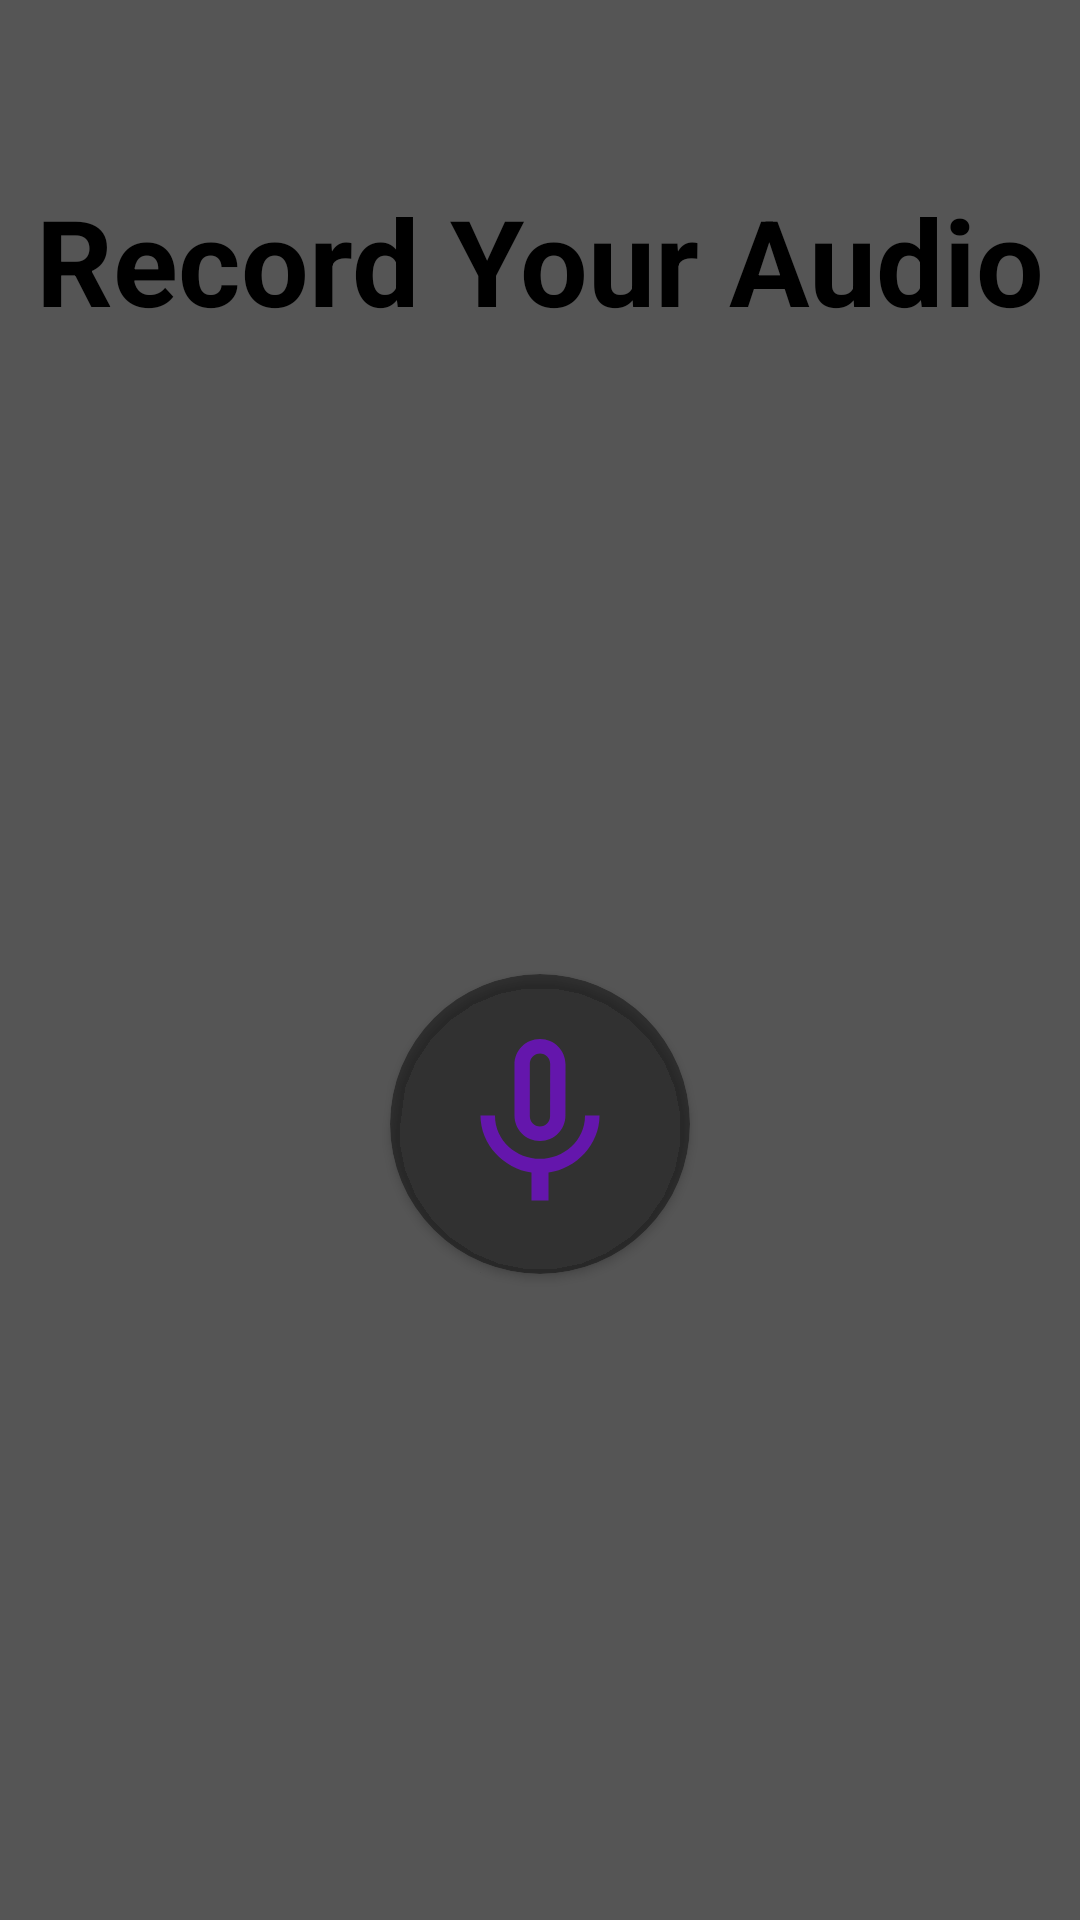

Point at icon controls on the screen. Image size 1080*1920, points as (x=x, y=y).
mic none: (x=540, y=1124)
